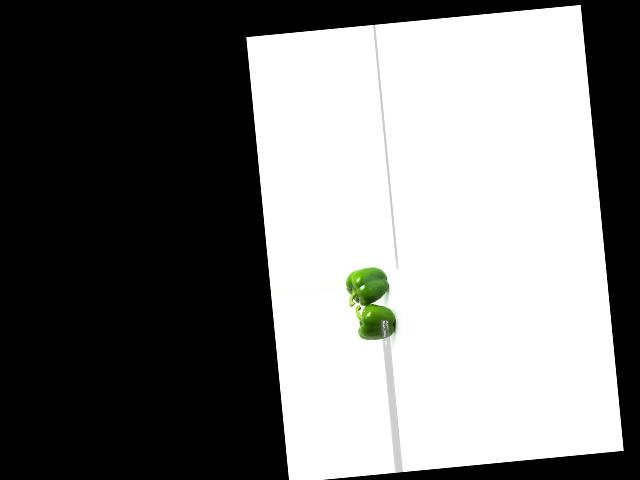bell_pepper: (342, 265, 396, 306)
